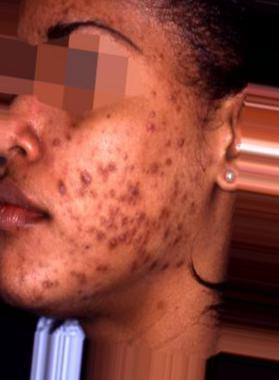Acne: (126, 226, 180, 287), (134, 109, 182, 170), (89, 208, 155, 248), (118, 158, 170, 208), (60, 153, 109, 193), (60, 260, 109, 295)
